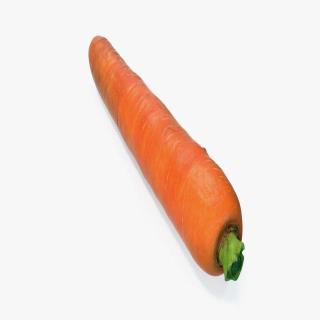carrot: (88, 30, 246, 290)
